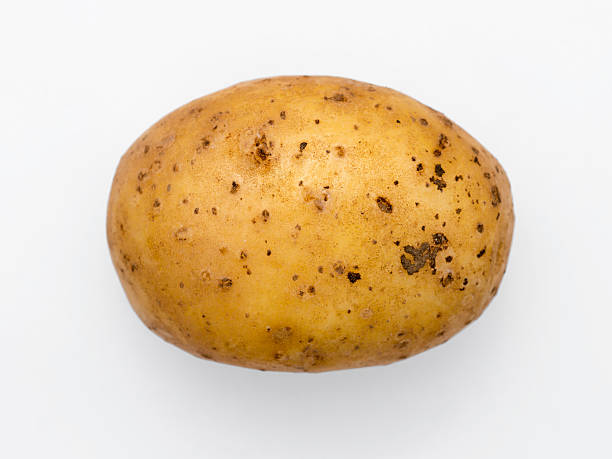potato: (103, 58, 550, 407)
